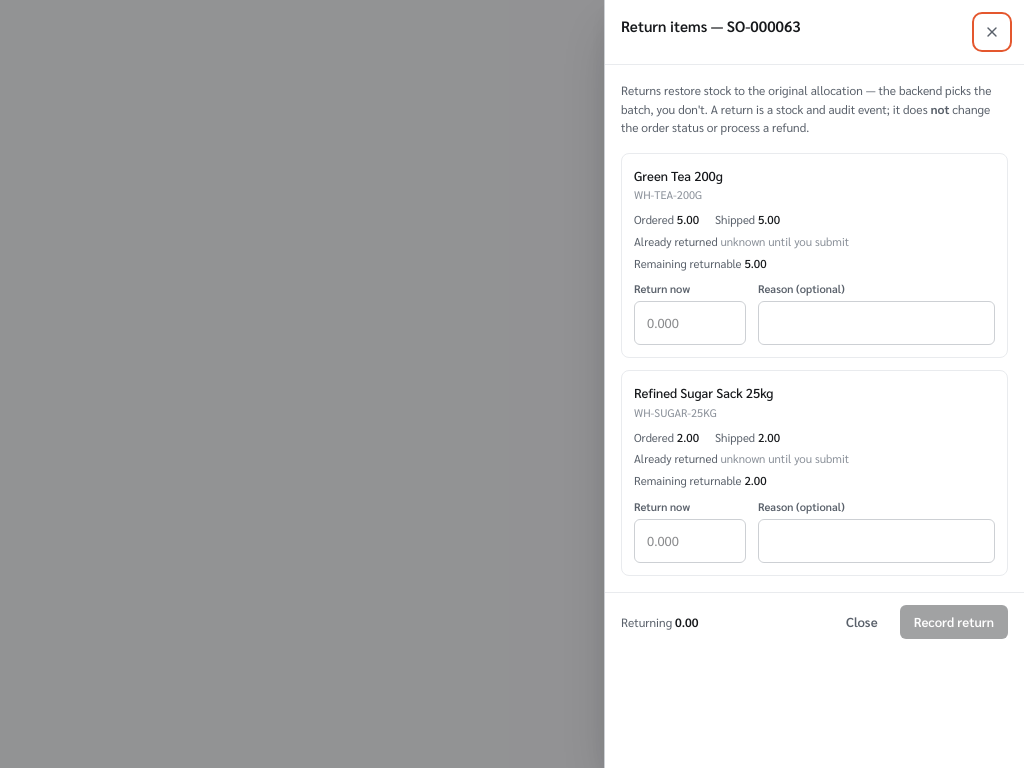
Scenario: ReturnDrawer › keeps entered draft quantities when the backend rejects the return, and shows 'Remaining: N' verbatim
The width and height of the screenshot is (1024, 768).
Type "3" into the field named "Return quantity for Green Tea 200g". click: (690, 324)
box: [634, 302, 746, 346]
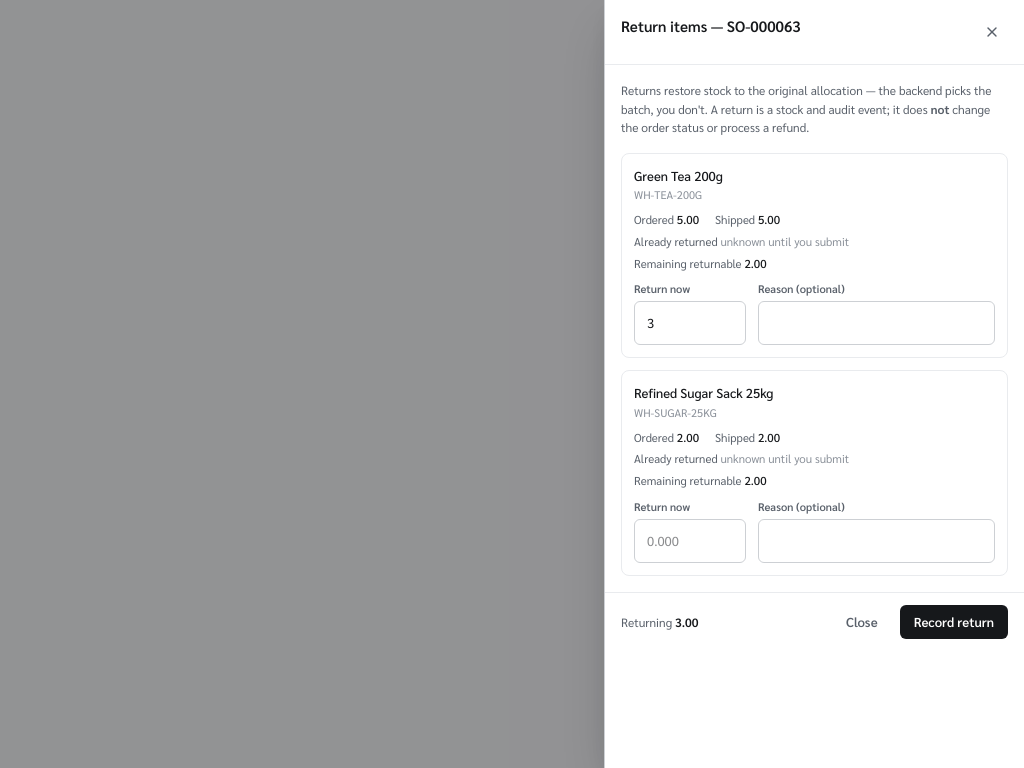
Click the button "Record return". click: (954, 622)
box: [900, 605, 1008, 639]
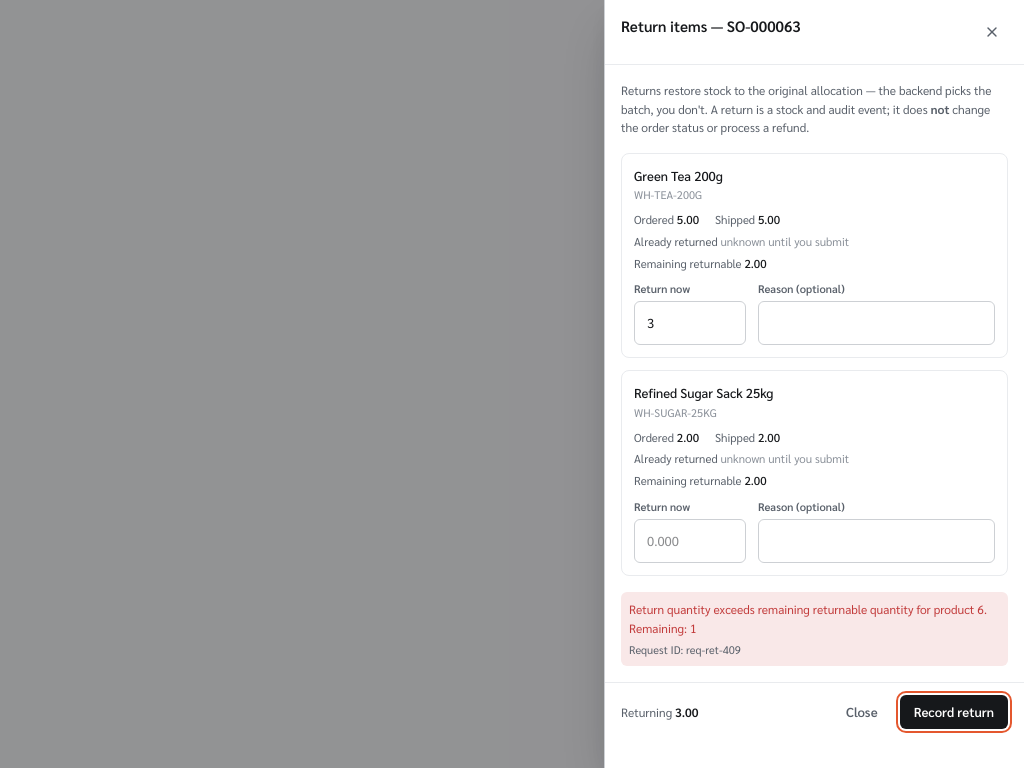
Expected: the text "Remaining: 1" is shown, [629, 601, 987, 636]
Expected: the text "req-ret-409" is shown, [686, 642, 741, 657]
